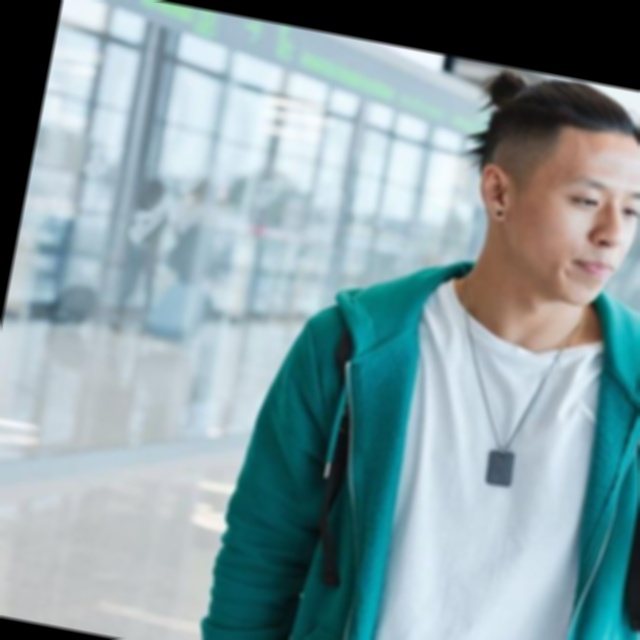Sin_Casco_Mascarrilla: (449, 64, 640, 310)
Sin_Chaleco: (255, 237, 640, 640)
